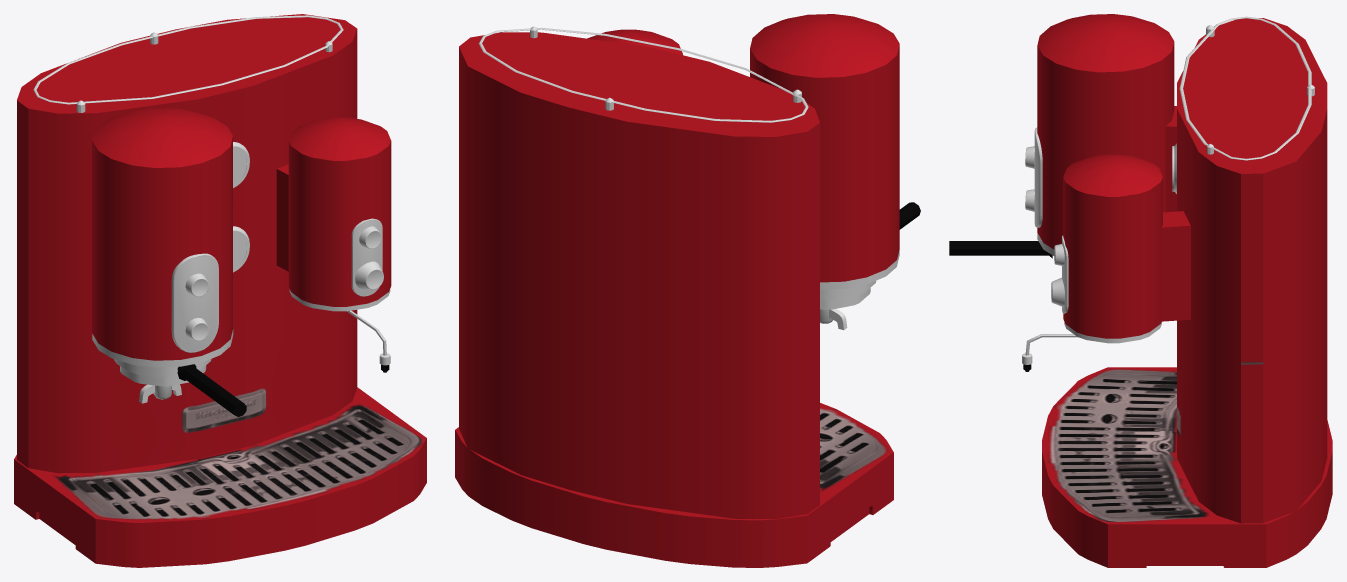
3 views of the same model, side by side, from view 1: azimuth 30°, elevation 25°; view 2: azimuth 150°, elevation 25°; view 3: azimuth 270°, elevation 25° (orthographic). The views are drawn at different scales.
Parts seen in each view (by area): view 1: 900001_base, 900001_chrome, 900001_matte; view 2: 900001_base, 900001_chrome; view 3: 900001_base, 900001_chrome, 900001_matte.
Boxes of the visible parts, box(x1,y1,x2,y2) form: 900001_base: box(14, 14, 426, 567); 900001_chrome: box(33, 15, 390, 403); 900001_matte: box(177, 364, 389, 416); 900001_base: box(455, 14, 899, 567); 900001_chrome: box(478, 26, 899, 329); 900001_base: box(1037, 14, 1332, 567); 900001_chrome: box(1022, 16, 1314, 364); 900001_matte: box(949, 241, 1052, 371).
Size of the model in its own units: 0.3093 by 0.3822 by 0.3188.
3 materials, 1 textured.
